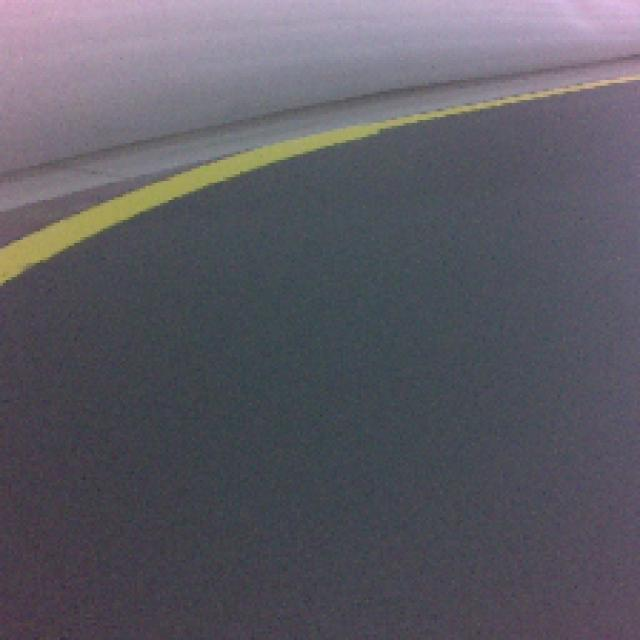Road: (0, 402, 640, 640)
